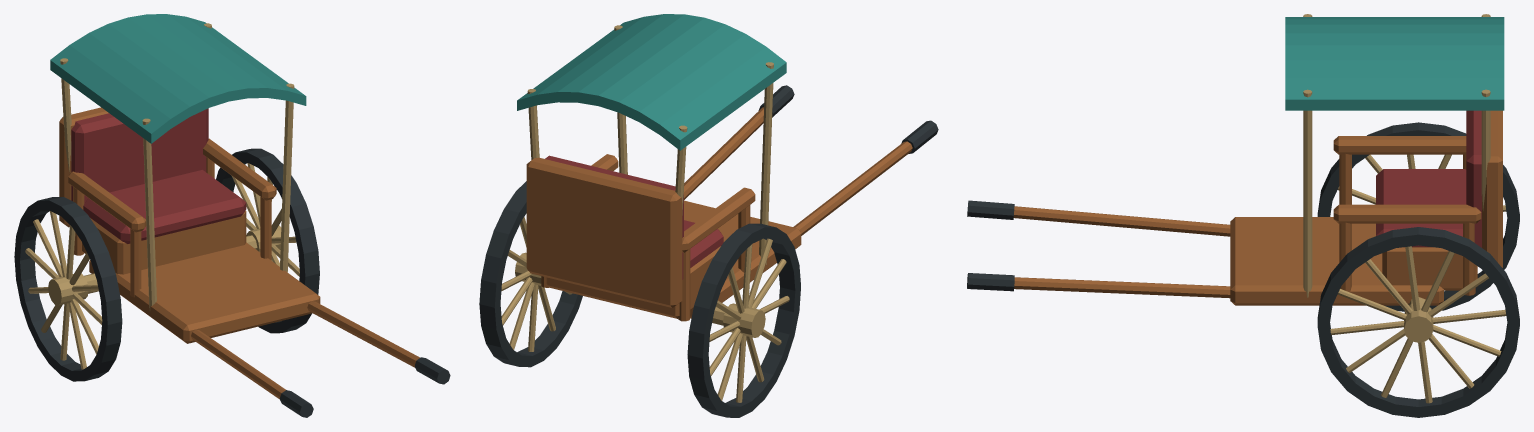
Rendered from NEW_RECOVERY_117_LOD1.fbx.
3 views of the same model, side by side, from view 1: azimuth 30°, elevation 25°; view 2: azimuth 150°, elevation 25°; view 3: azimuth 270°, elevation 25° (orthographic). The views are drawn at different scales.
Parts seen in each view (by area): view 1: Rickshaw_static_fused; view 2: Rickshaw_static_fused; view 3: Rickshaw_static_fused.
Part boxes in pixels (x1,y1,x2,y2): Rickshaw_static_fused: (14,14,450,417); Rickshaw_static_fused: (479,14,938,417); Rickshaw_static_fused: (967,14,1519,417).
Size of the model in its own units: 200 by 393 by 258.
